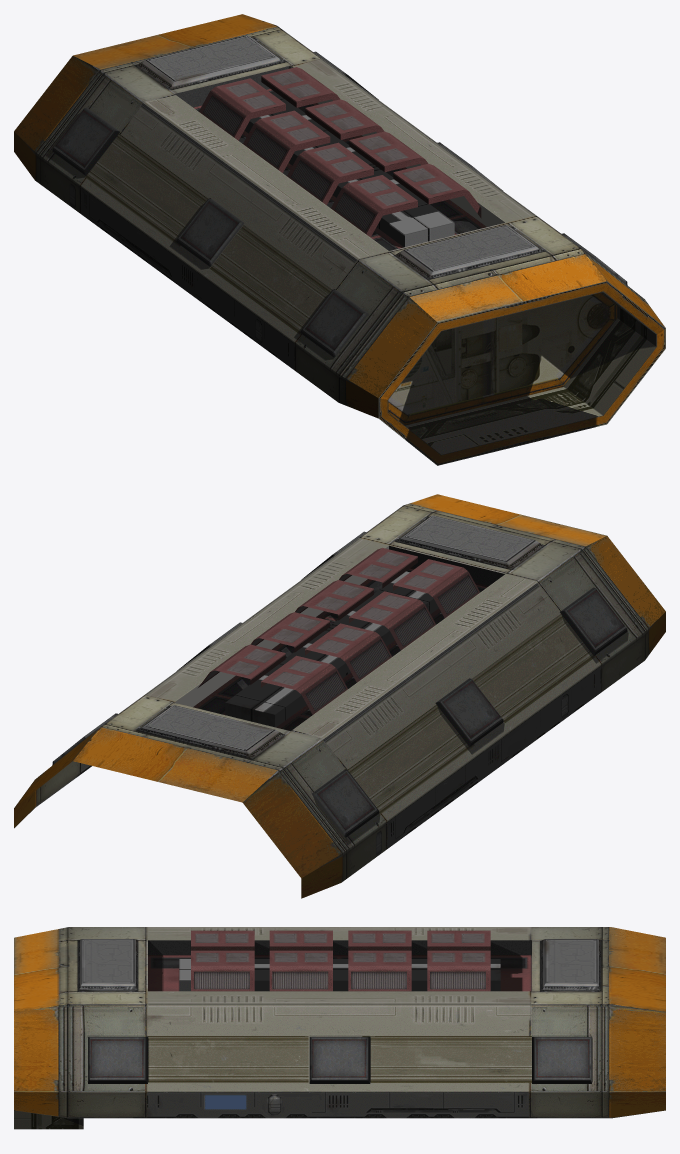
File: ML1_Turret.FBX
3 views of the same model, one above another, from view 1: azimuth 30°, elevation 25°; view 2: azimuth 150°, elevation 25°; view 3: azimuth 270°, elevation 25° (orthographic). The views are drawn at different scales.
Parts seen in each view (by area): view 1: ML1_Turret; view 2: ML1_Turret; view 3: ML1_Turret.
Boxes of the visible parts, x1,y1,x2,y2 form: ML1_Turret: [14, 14, 665, 465]; ML1_Turret: [14, 494, 665, 898]; ML1_Turret: [14, 927, 665, 1129].
Bounding box in the file's own units: 9.91 × 5.35 × 20.44.
Materials: 1 (1 with a texture image).
